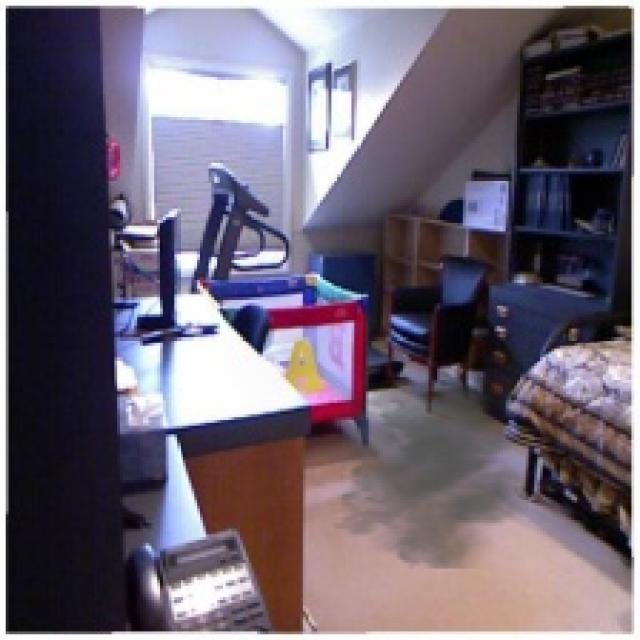smoke: (312, 368, 528, 568)
